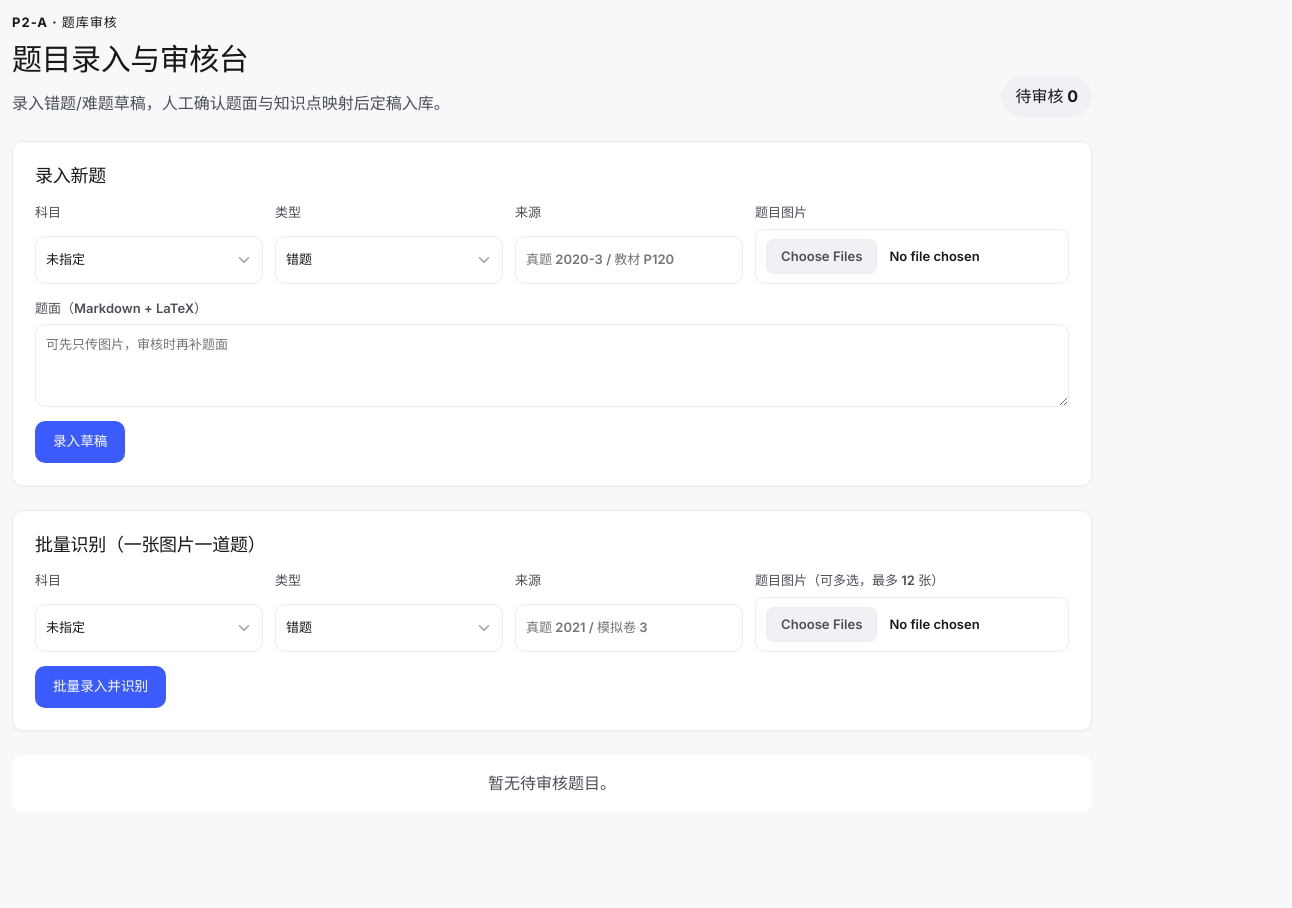
ProblemsView › submits a new draft through the intake form
Type "求极限" into the text box labelled "题面（Markdown + LaTeX）".
click(552, 366); type("求极限")  # box [35, 324, 1069, 407]
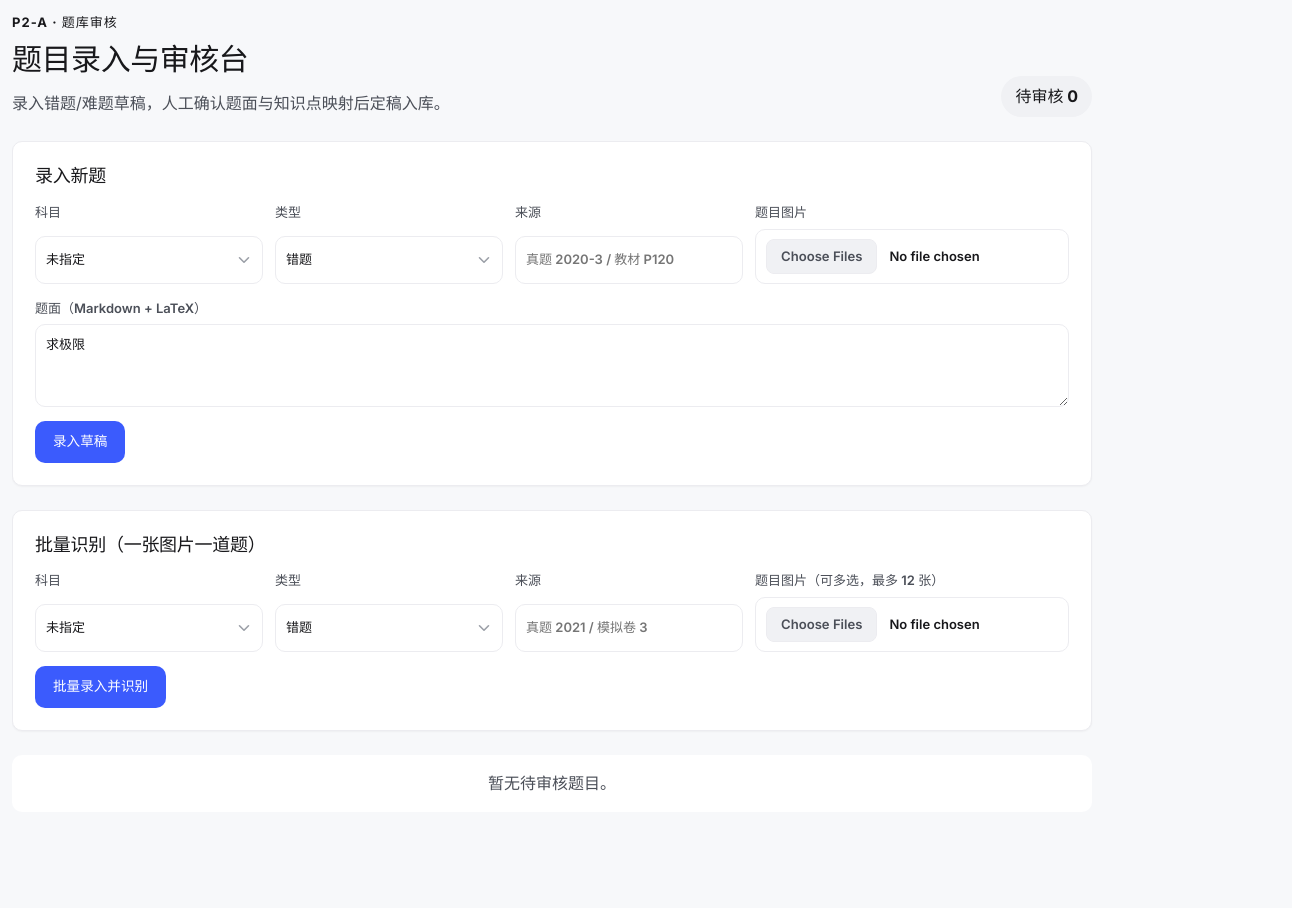
Submit the form with class "intake-card" that starts with "录入新题", box [12, 142, 1092, 486]
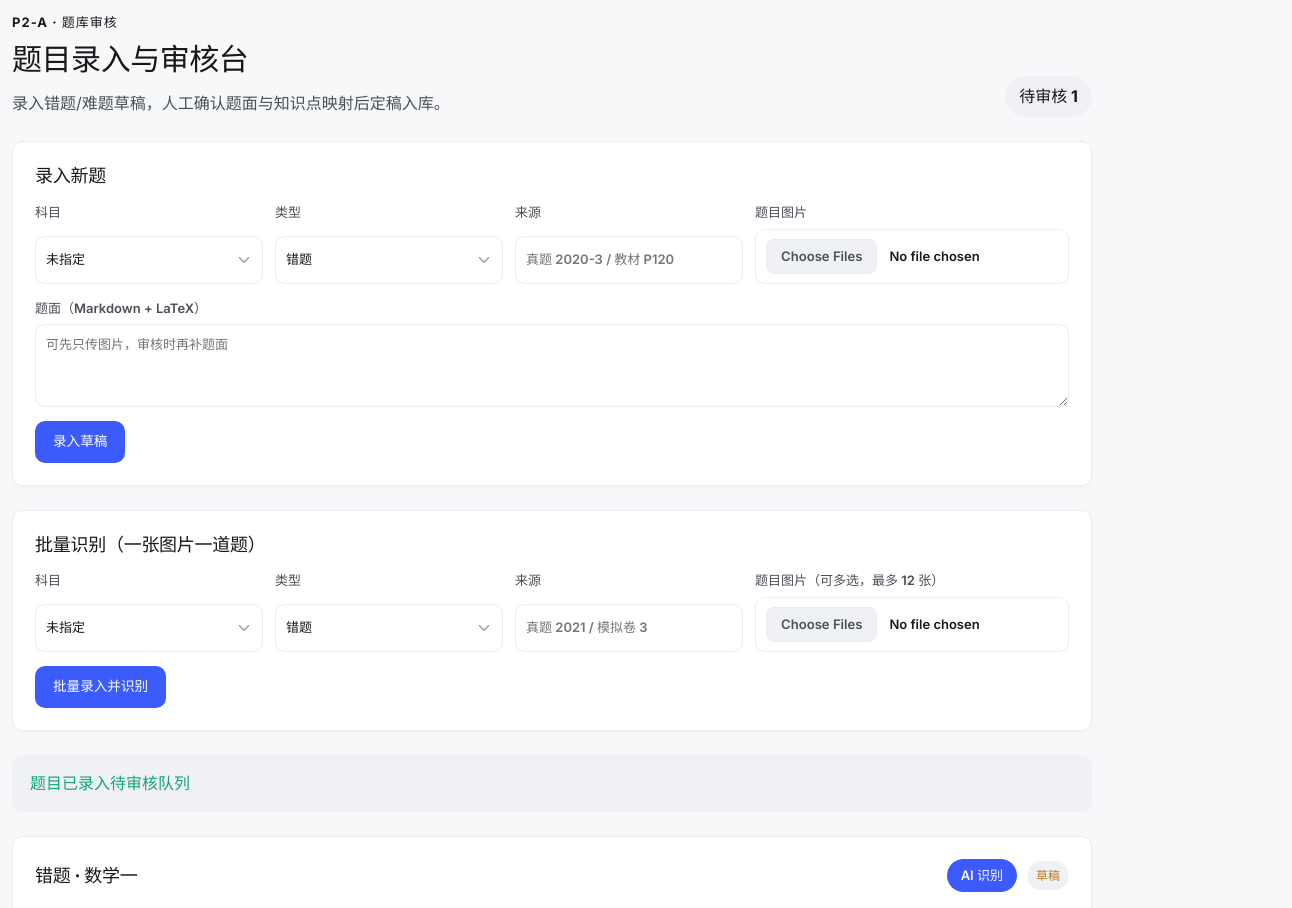
Now the text "题目已录入待审核队列" is shown, box [12, 754, 1092, 812]
Now the text "待审核 1" is shown, box [1005, 76, 1092, 118]
